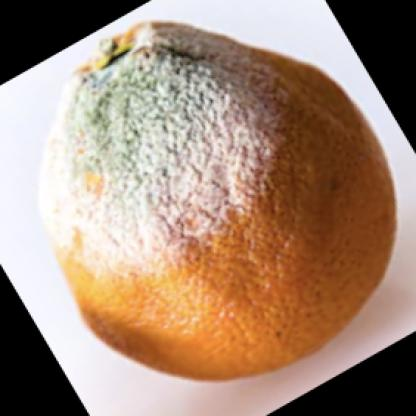rotten: (49, 23, 395, 382)
